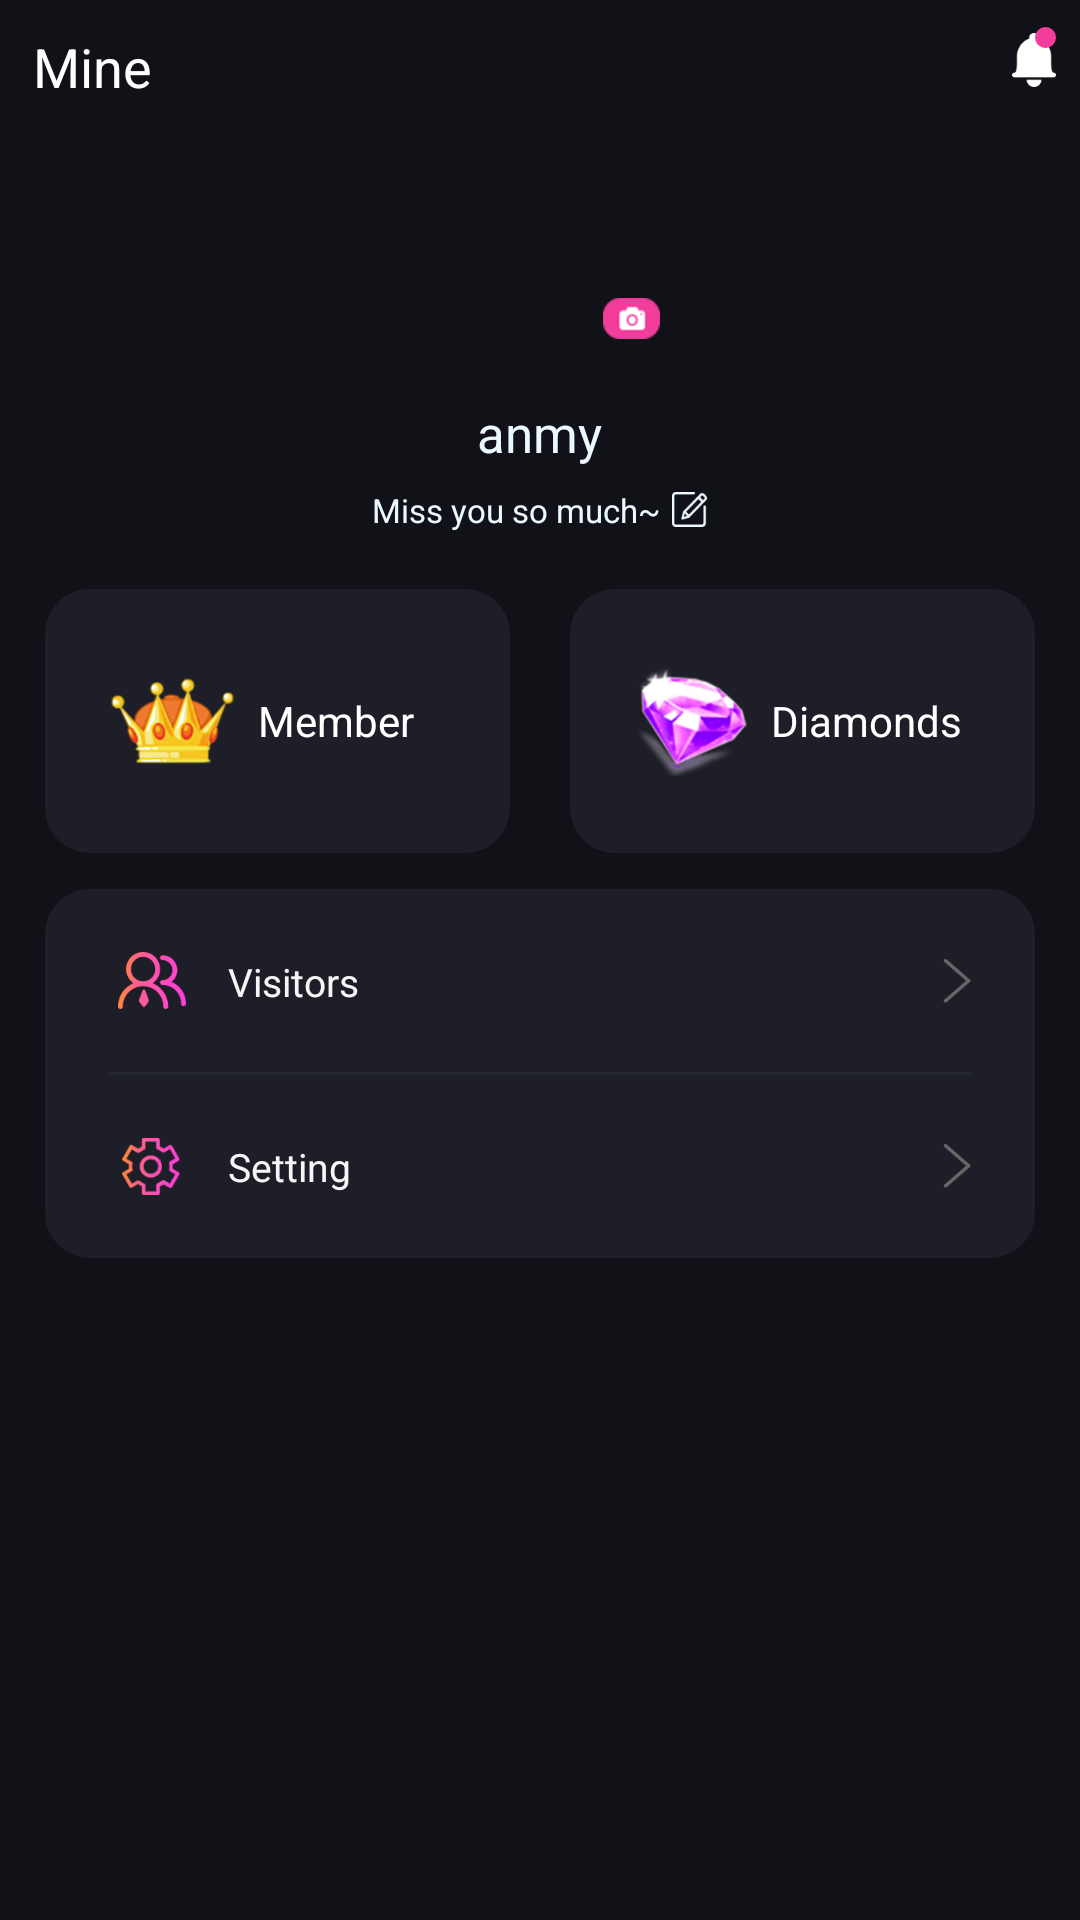

Screen size 1080w x 1920h. Icon name, then its center in pixels as (x=x, y=y):
camera mine: (x=631, y=318)
forward mine: (x=957, y=981), (x=957, y=1166)
shape system notify mine: (x=1034, y=60)
